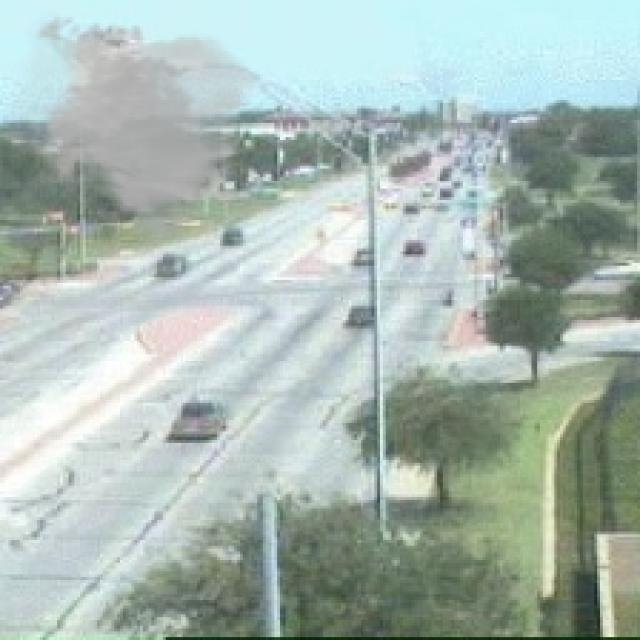smoke: (11, 8, 260, 248)
